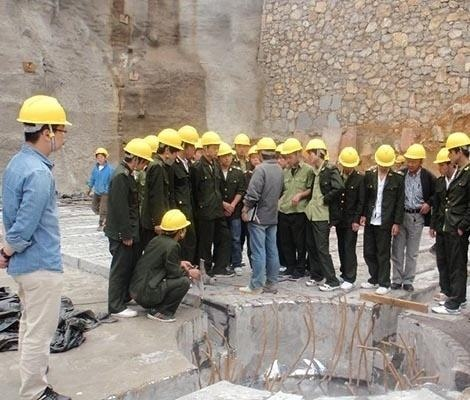yellow: (14, 92, 67, 155), (159, 204, 190, 241), (121, 138, 152, 175), (154, 126, 181, 165), (303, 136, 329, 168), (444, 133, 470, 164), (402, 141, 426, 174), (177, 124, 198, 161), (371, 143, 396, 174), (432, 146, 456, 178), (199, 129, 220, 162), (280, 138, 303, 168), (335, 144, 358, 174), (256, 136, 276, 164), (215, 141, 232, 169), (233, 133, 251, 158), (93, 145, 109, 165)
